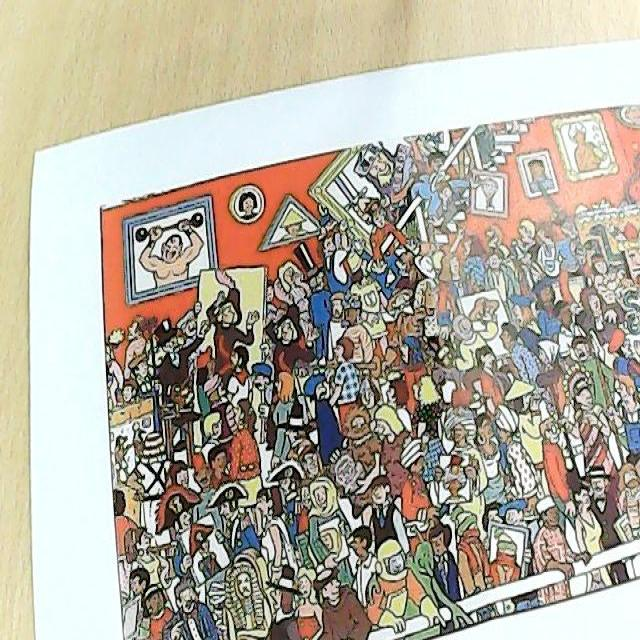waldo: (299, 448, 321, 477)
